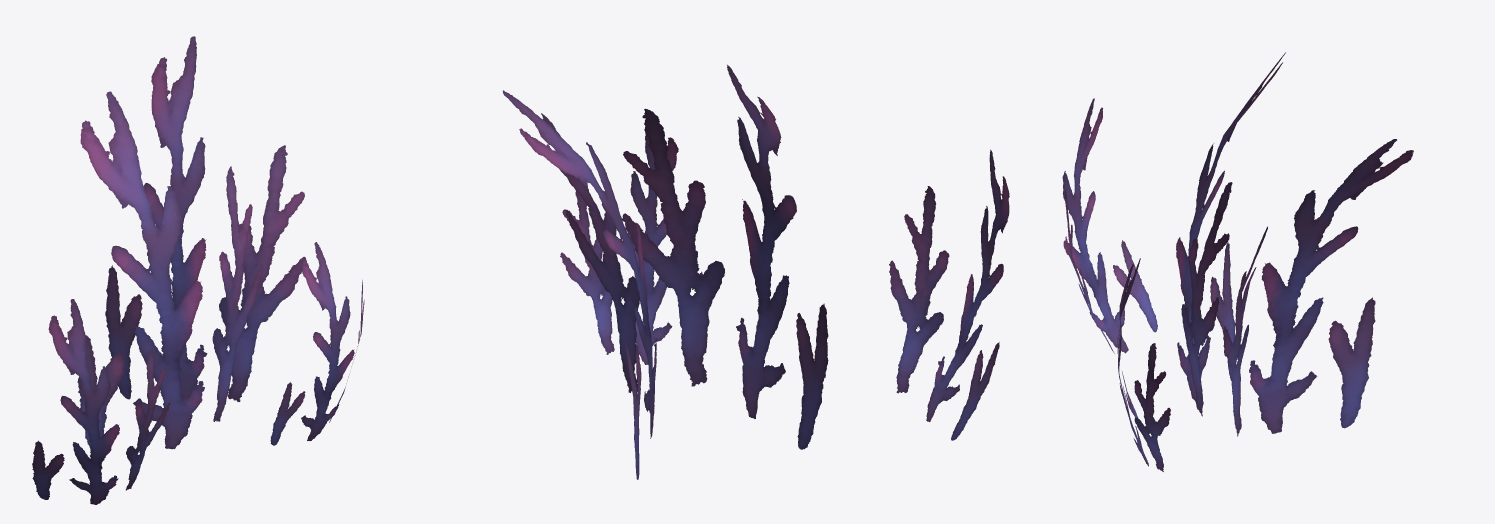
Rendered from MSH_Grass_04.fbx.
3 views of the same model, side by side, from view 1: azimuth 30°, elevation 25°; view 2: azimuth 150°, elevation 25°; view 3: azimuth 270°, elevation 25° (orthographic). The views are drawn at different scales.
Parts seen in each view (by area): view 1: GrassBunch_2; view 2: GrassBunch_2; view 3: GrassBunch_2.
Part boxes in pixels (x1,y1,x2,y2): GrassBunch_2: [32, 36, 364, 504]; GrassBunch_2: [503, 65, 1009, 479]; GrassBunch_2: [1062, 52, 1413, 471].
Bounding box in the file's own units: 226 × 172 × 182.
